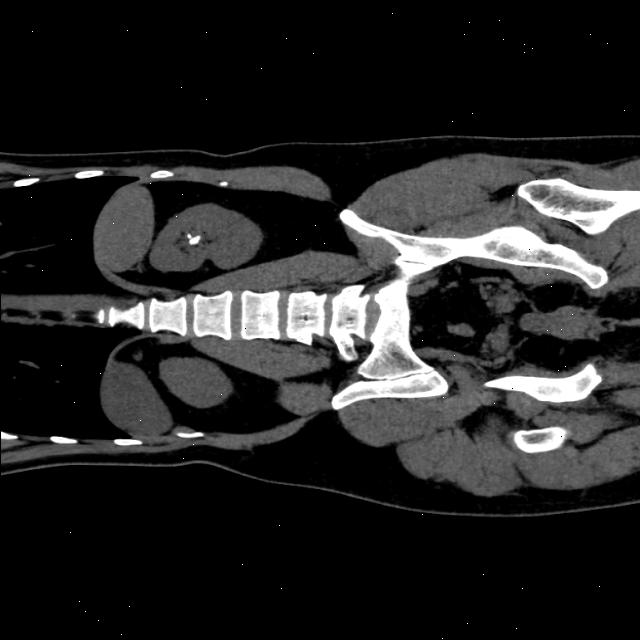kidneystone: (188, 232, 200, 244)
